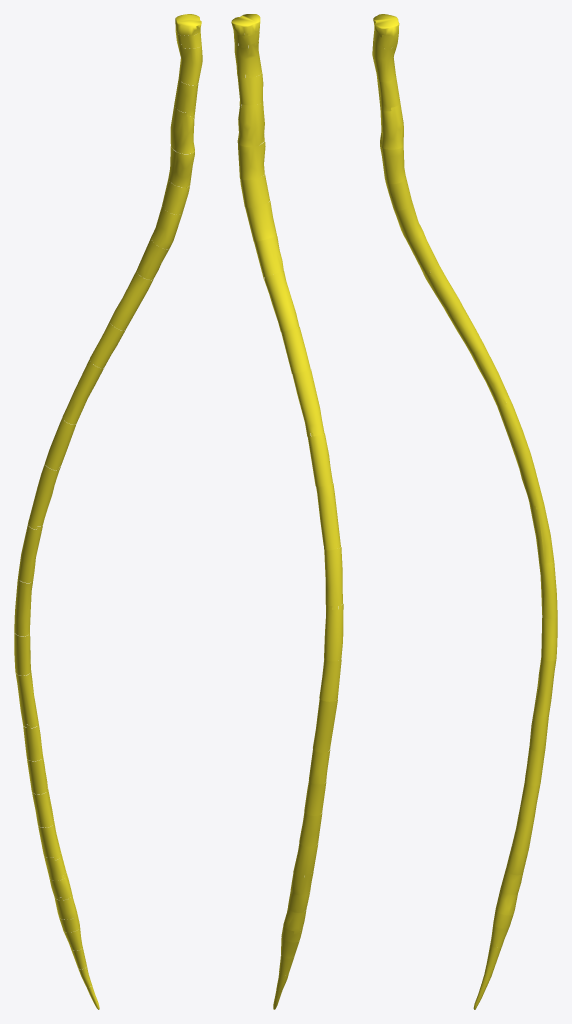
The model's file is spinal_cord.glb.
3 renders of one model, left to right at view 1: azimuth 90°, elevation 25°; view 2: azimuth 210°, elevation 25°; view 3: azimuth 270°, elevation 25°, orthographic. The views are drawn at different scales.
Visible parts, largest first — view 1: VH_M_second_thoracic_spinal_cord_segment, VH_M_fourth_thoracic_spinal_cord_segment, VH_M_sixth_thoracic_spinal_cord_segment, VH_M_C5_segment_of_cervical_spinal_cord, VH_M_seventh_thoracic_spinal_cord_segment, VH_M_eighth_thoracic_spinal_cord_segment, VH_M_tenth_thoracic_spinal_cord_segment, VH_M_fifth_thoracic_spinal_cord_segment, VH_M_C3_segment_of_cervical_spinal_cord, VH_M_C8_segment_of_cervical_spinal_cord, VH_M_C6_segment_of_cervical_spinal_cord, VH_M_third_thoracic_spinal_cord_segment (+9 smaller); view 2: VH_M_fourth_thoracic_spinal_cord_segment, VH_M_second_thoracic_spinal_cord_segment, VH_M_sixth_thoracic_spinal_cord_segment, VH_M_C5_segment_of_cervical_spinal_cord, VH_M_seventh_thoracic_spinal_cord_segment, VH_M_eighth_thoracic_spinal_cord_segment, VH_M_fifth_thoracic_spinal_cord_segment, VH_M_tenth_thoracic_spinal_cord_segment, VH_M_C8_segment_of_cervical_spinal_cord, VH_M_C6_segment_of_cervical_spinal_cord, VH_M_third_thoracic_spinal_cord_segment, VH_M_first_thoracic_spinal_cord_segment (+13 smaller); view 3: VH_M_fourth_thoracic_spinal_cord_segment, VH_M_second_thoracic_spinal_cord_segment, VH_M_sixth_thoracic_spinal_cord_segment, VH_M_C5_segment_of_cervical_spinal_cord, VH_M_tenth_thoracic_spinal_cord_segment, VH_M_seventh_thoracic_spinal_cord_segment, VH_M_eighth_thoracic_spinal_cord_segment, VH_M_fifth_thoracic_spinal_cord_segment, VH_M_C6_segment_of_cervical_spinal_cord, VH_M_C3_segment_of_cervical_spinal_cord, VH_M_third_thoracic_spinal_cord_segment, VH_M_ninth_thoracic_spinal_cord_segment (+9 smaller).
Boxes of the visible parts, bbox=[...] form: VH_M_second_thoracic_spinal_cord_segment: bbox=[110, 270, 152, 330]; VH_M_fourth_thoracic_spinal_cord_segment: bbox=[62, 359, 103, 424]; VH_M_sixth_thoracic_spinal_cord_segment: bbox=[28, 464, 60, 529]; VH_M_C5_segment_of_cervical_spinal_cord: bbox=[170, 105, 194, 153]; VH_M_seventh_thoracic_spinal_cord_segment: bbox=[18, 524, 42, 582]; VH_M_eighth_thoracic_spinal_cord_segment: bbox=[14, 578, 32, 636]; VH_M_tenth_thoracic_spinal_cord_segment: bbox=[15, 669, 38, 728]; VH_M_fifth_thoracic_spinal_cord_segment: bbox=[45, 418, 75, 470]; VH_M_C3_segment_of_cervical_spinal_cord: bbox=[177, 42, 202, 85]; VH_M_C8_segment_of_cervical_spinal_cord: bbox=[151, 205, 182, 249]; VH_M_C6_segment_of_cervical_spinal_cord: bbox=[168, 146, 194, 187]; VH_M_third_thoracic_spinal_cord_segment: bbox=[89, 321, 124, 368]; VH_M_fourth_thoracic_spinal_cord_segment: bbox=[292, 369, 324, 436]; VH_M_second_thoracic_spinal_cord_segment: bbox=[264, 271, 299, 331]; VH_M_sixth_thoracic_spinal_cord_segment: bbox=[316, 483, 340, 550]; VH_M_C5_segment_of_cervical_spinal_cord: bbox=[237, 101, 264, 146]; VH_M_seventh_thoracic_spinal_cord_segment: bbox=[324, 547, 342, 609]; VH_M_eighth_thoracic_spinal_cord_segment: bbox=[324, 604, 343, 661]; VH_M_fifth_thoracic_spinal_cord_segment: bbox=[307, 433, 332, 486]; VH_M_tenth_thoracic_spinal_cord_segment: bbox=[313, 699, 337, 752]; VH_M_C8_segment_of_cervical_spinal_cord: bbox=[245, 201, 276, 241]; VH_M_C6_segment_of_cervical_spinal_cord: bbox=[238, 141, 265, 179]; VH_M_third_thoracic_spinal_cord_segment: bbox=[281, 327, 310, 373]; VH_M_first_thoracic_spinal_cord_segment: bbox=[254, 236, 283, 280]; VH_M_fourth_thoracic_spinal_cord_segment: bbox=[470, 343, 510, 406]; VH_M_second_thoracic_spinal_cord_segment: bbox=[422, 261, 463, 317]; VH_M_sixth_thoracic_spinal_cord_segment: bbox=[512, 445, 544, 509]; VH_M_C5_segment_of_cervical_spinal_cord: bbox=[380, 103, 403, 149]; VH_M_tenth_thoracic_spinal_cord_segment: bbox=[533, 658, 556, 716]; VH_M_seventh_thoracic_spinal_cord_segment: bbox=[529, 502, 554, 564]; VH_M_eighth_thoracic_spinal_cord_segment: bbox=[539, 562, 557, 618]; VH_M_fifth_thoracic_spinal_cord_segment: bbox=[497, 399, 527, 450]; VH_M_C6_segment_of_cervical_spinal_cord: bbox=[380, 143, 405, 183]; VH_M_C3_segment_of_cervical_spinal_cord: bbox=[372, 41, 396, 81]; VH_M_third_thoracic_spinal_cord_segment: bbox=[449, 308, 483, 352]; VH_M_ninth_thoracic_spinal_cord_segment: bbox=[541, 614, 557, 661].
Bounding box in the file's own units: 0.0207 × 0.4651 × 0.0796.
